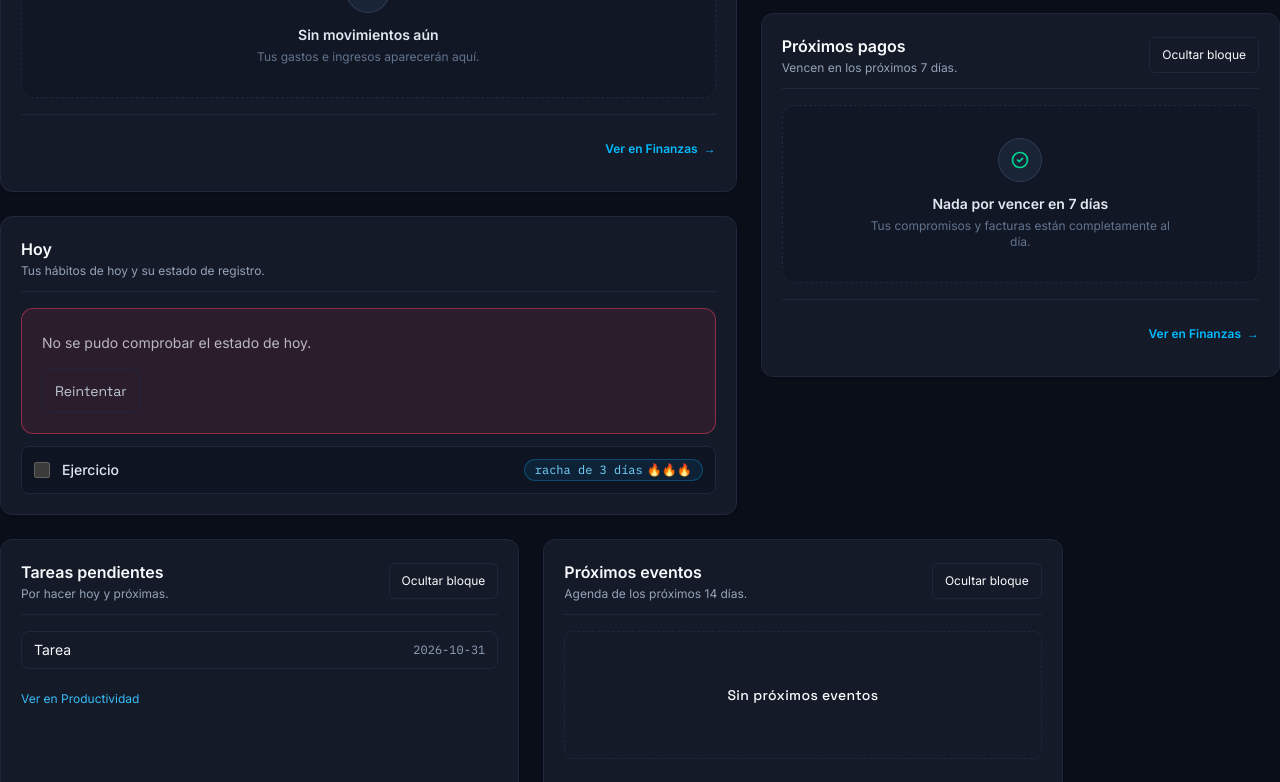
Hoy card: failed day read (JD item 2) › says the read failed and recovers the real state through Reintentar
(page scrolled)
Expected: the message "No se pudo comprobar el estado de hoy. Reintentar" is shown, [21, 308, 716, 434]
Expected: the text "registrados" is not shown
Click the button "Reintentar". click: (91,391)
box: [42, 369, 140, 413]
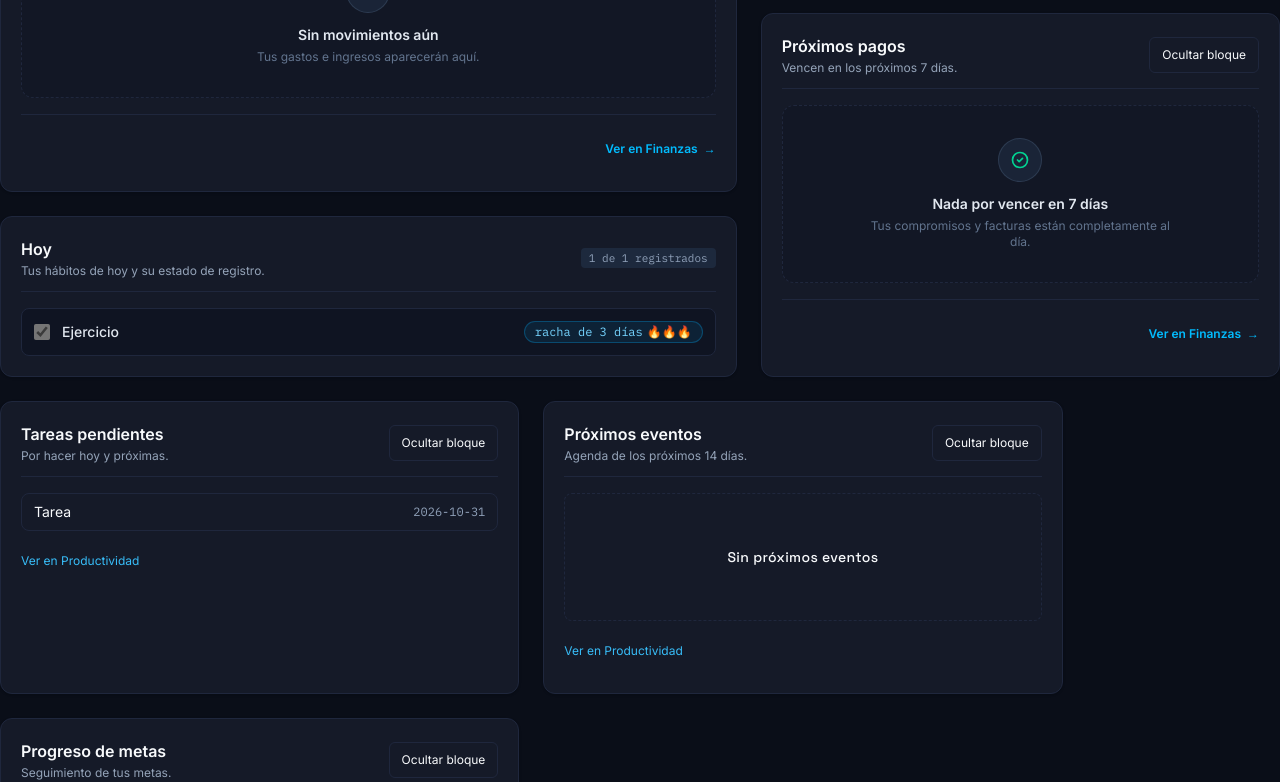
Expected: the text "1 de 1 registrados" is shown, [581, 248, 716, 268]
Expected: the checkbox named "Ejercicio, registrado hoy" is checked, [34, 324, 50, 340]
Expected: the message "No se pudo comprobar el estado de hoy. Reintentar" is gone
